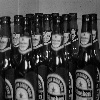beer: (51, 14, 96, 100)
